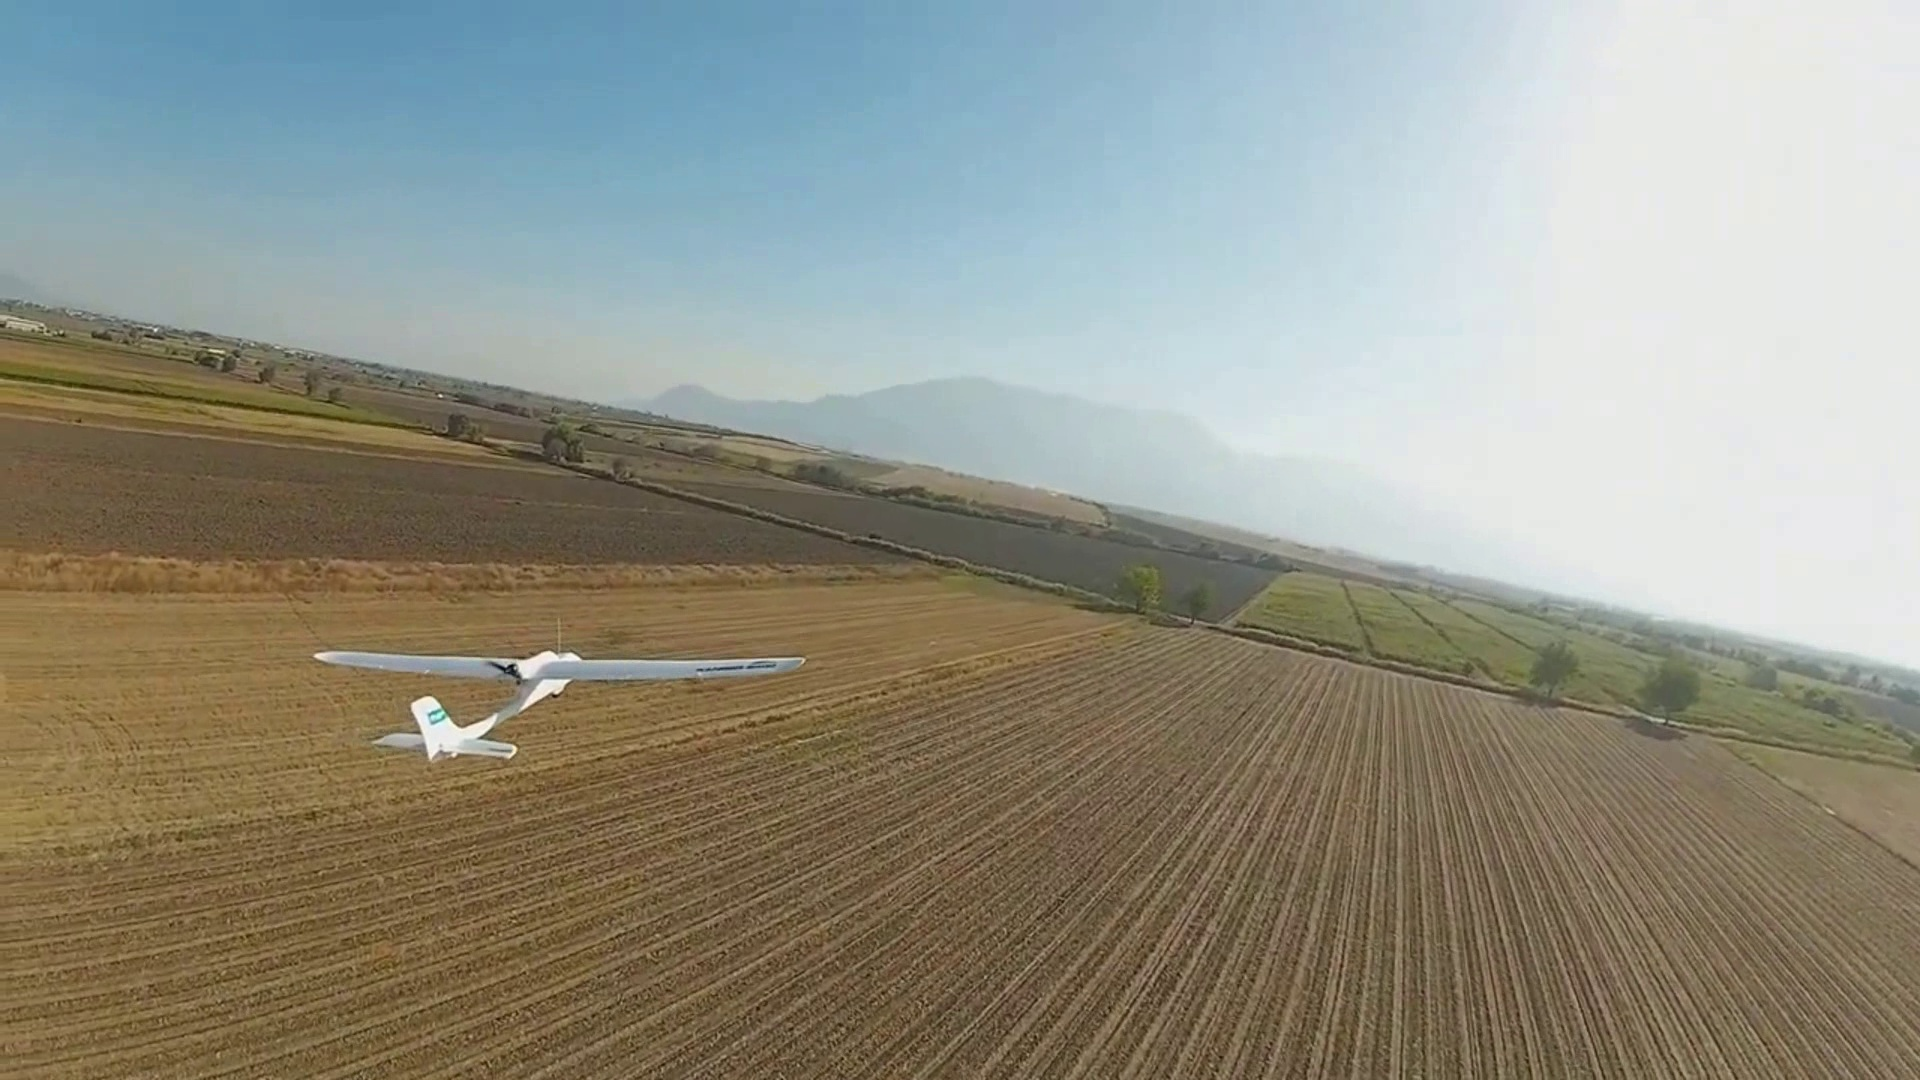airplane: (313, 644, 806, 762)
